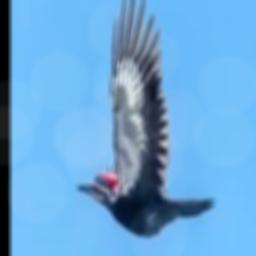Woodpecker: (76, 0, 216, 237)
